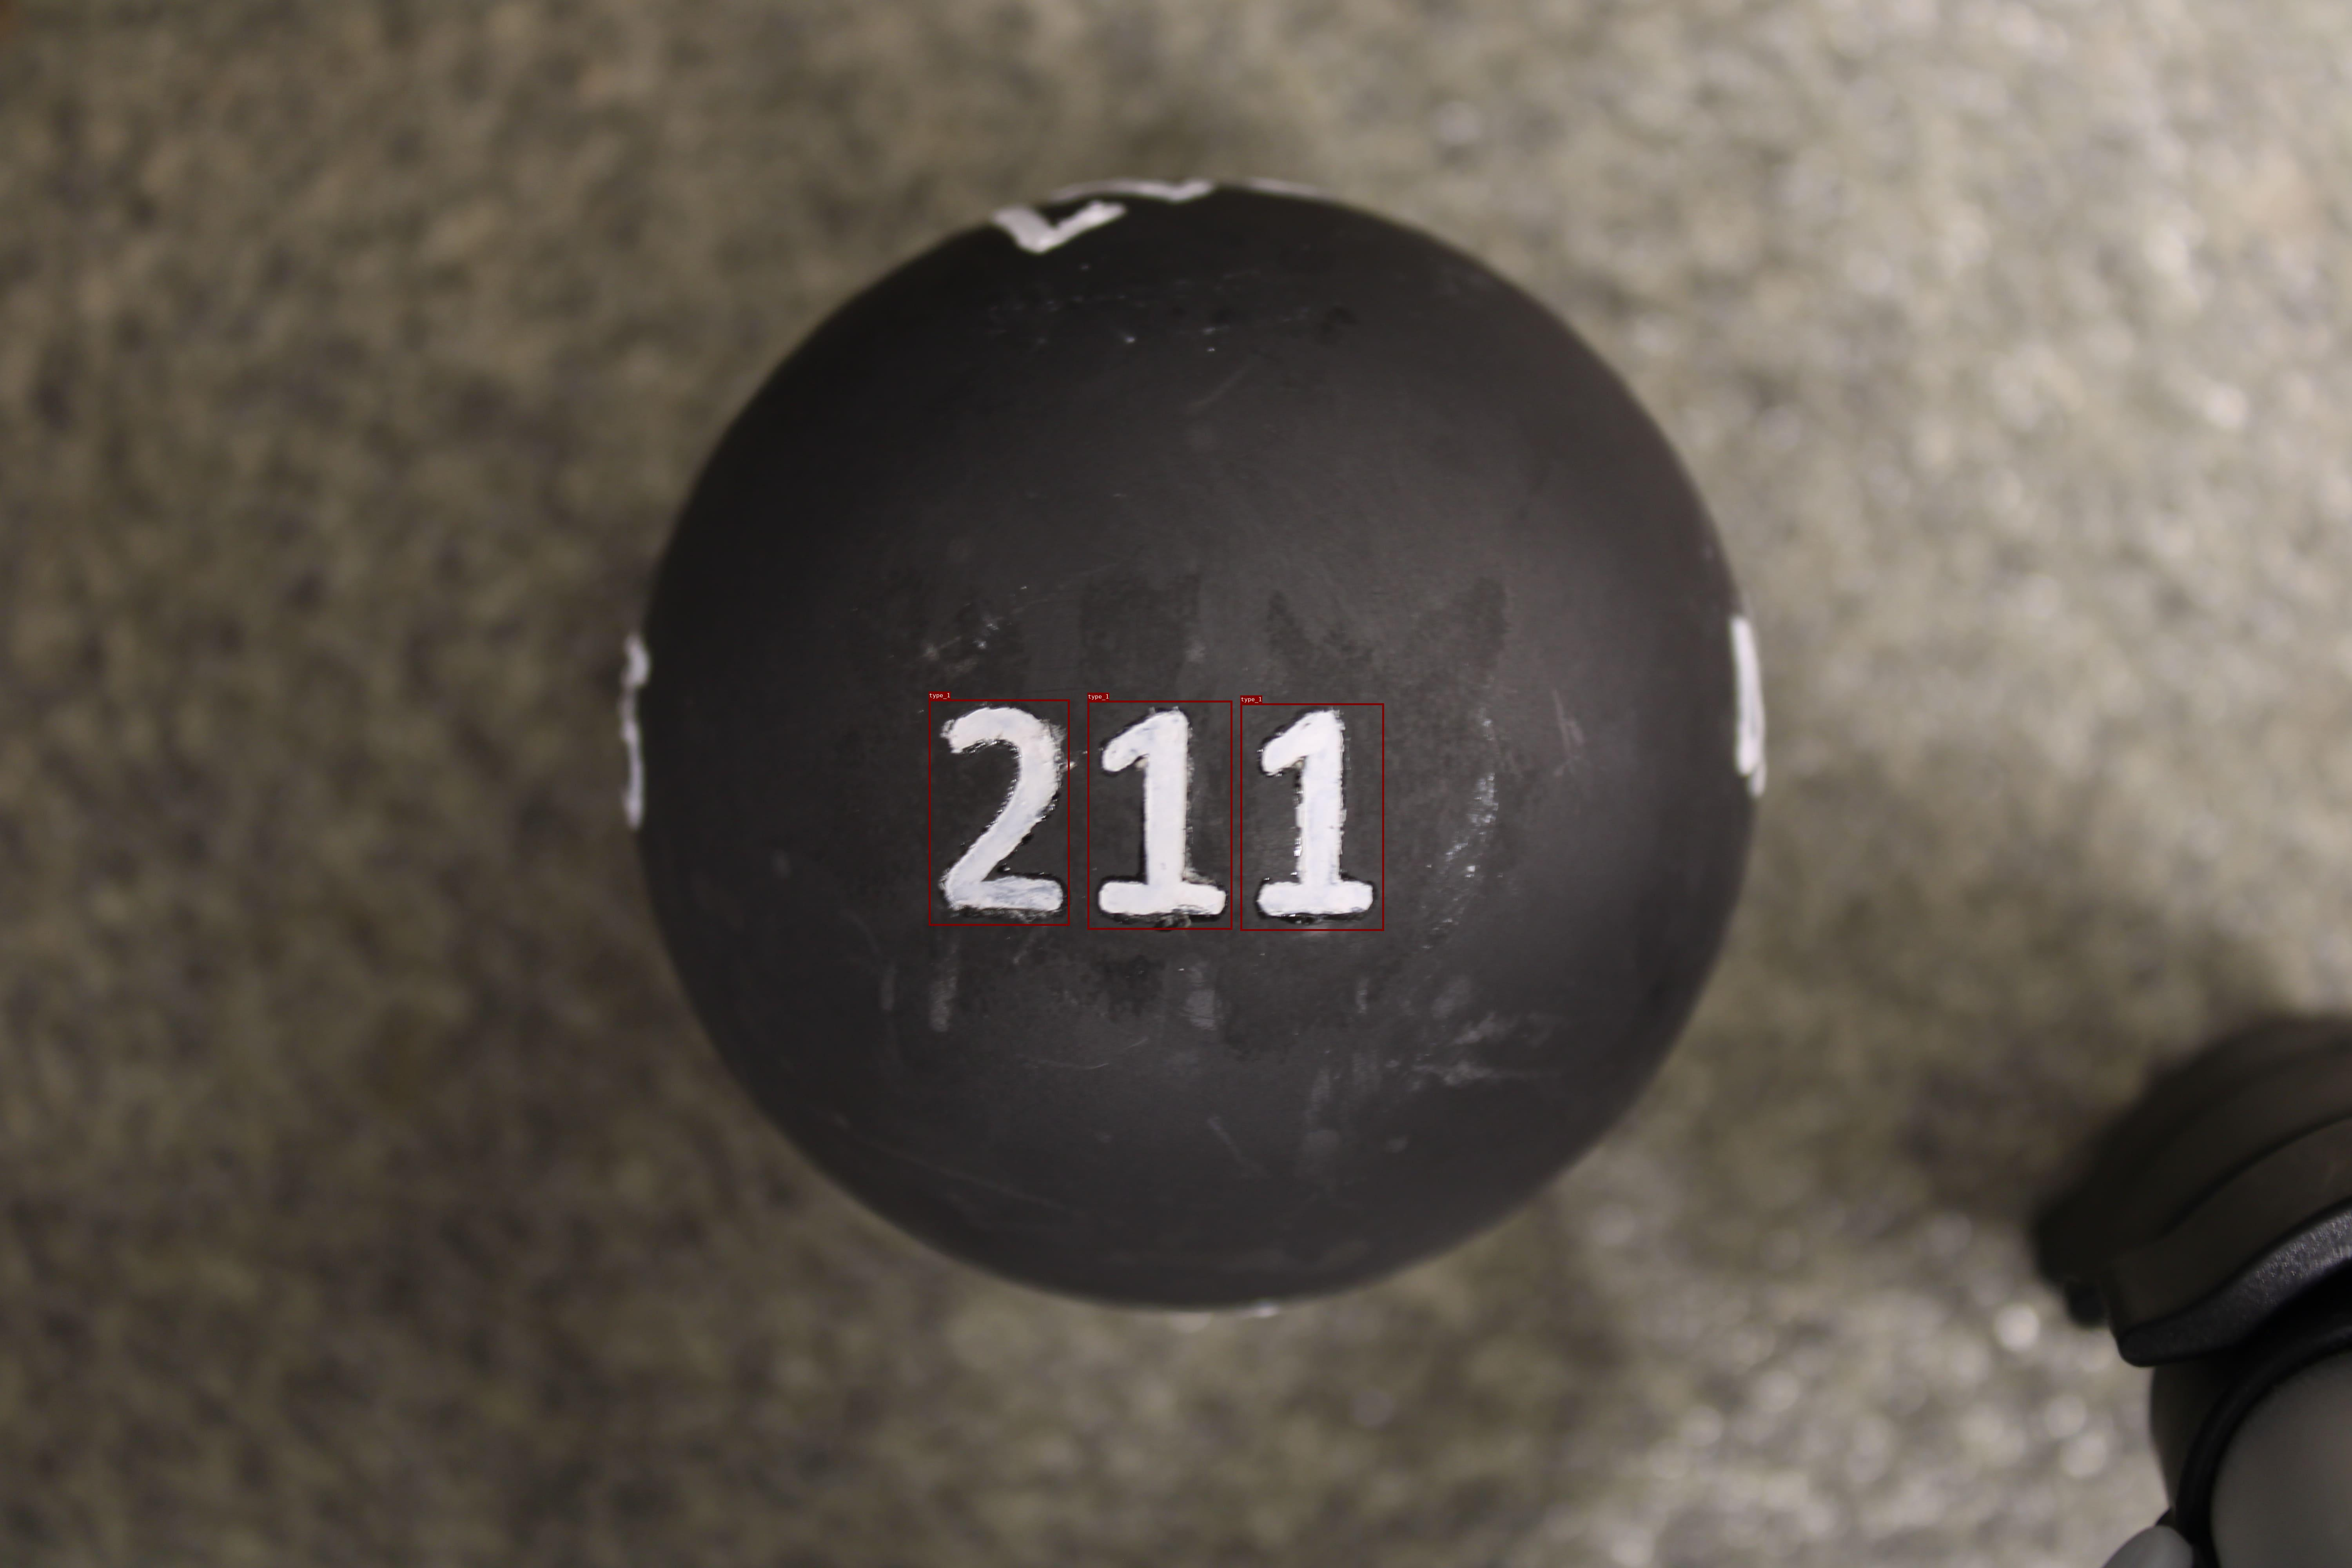type_1: (1087, 700, 1232, 929), (1241, 703, 1384, 931), (929, 700, 1069, 926)
